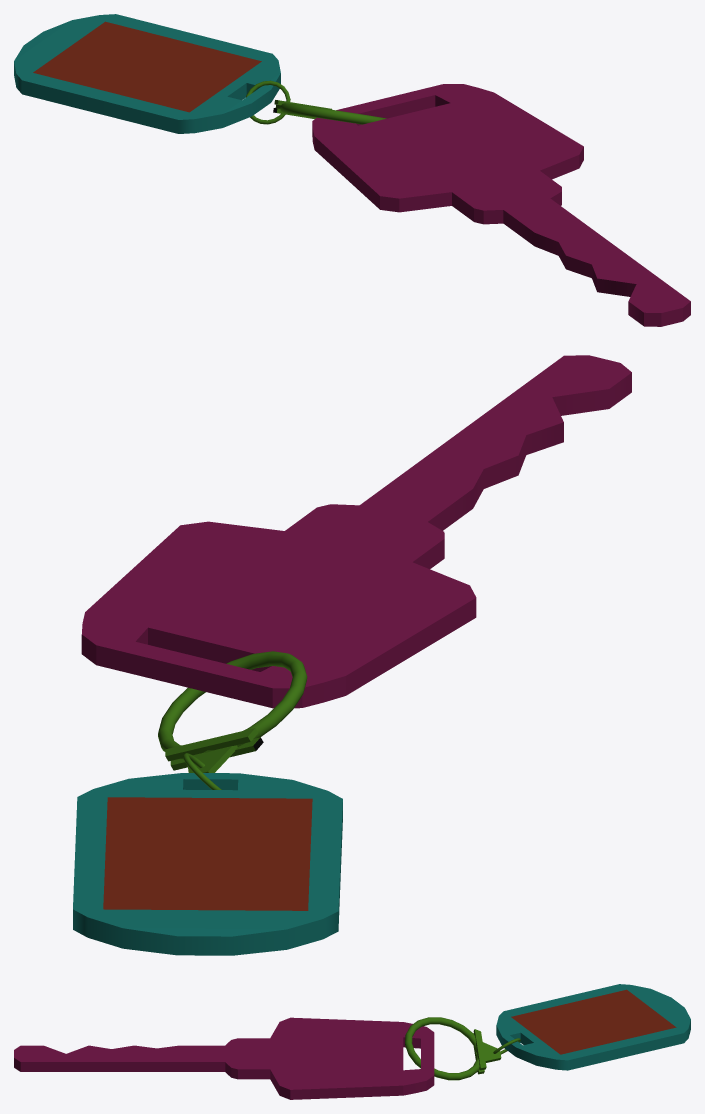
File: SM_Clef.fbx
3 renders of one model, top to bottom at view 1: azimuth 30°, elevation 25°; view 2: azimuth 150°, elevation 25°; view 3: azimuth 270°, elevation 25°, orthographic. The views are drawn at different scales.
Visible parts, largest first — view 1: pTorus5; view 2: pTorus5; view 3: pTorus5.
Boxes of the visible parts, x1,y1,x2,y2 form: pTorus5: (14,14,690,326); pTorus5: (73,355,631,955); pTorus5: (14,984,690,1099).
Size of the model in its own units: 32.45 by 4.92 by 78.09.
